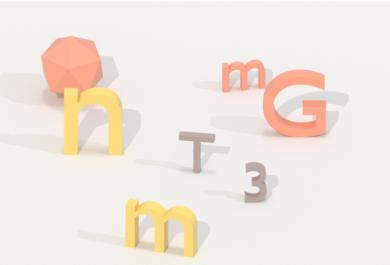0-TronCanh: (38, 33, 107, 99)
3: (242, 159, 270, 206)
G: (260, 65, 330, 142)
T: (175, 126, 220, 177)
m: (121, 193, 203, 262), (218, 53, 268, 95)
n: (60, 84, 127, 158)
